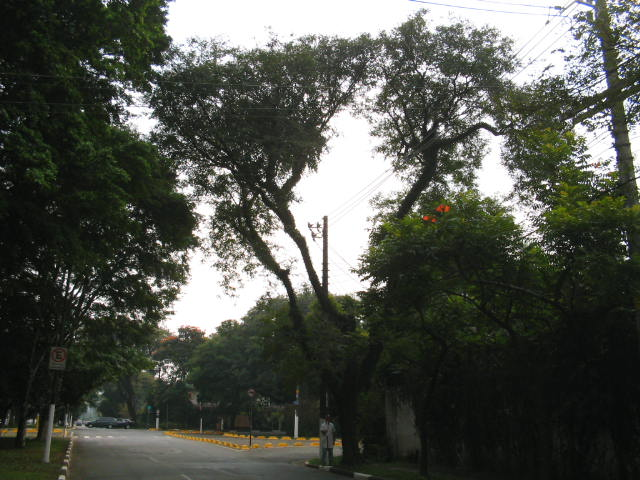crown: (158, 4, 532, 301)
stem: (334, 395, 374, 465)
stick: (320, 376, 334, 467)
tree: (156, 5, 534, 468)
